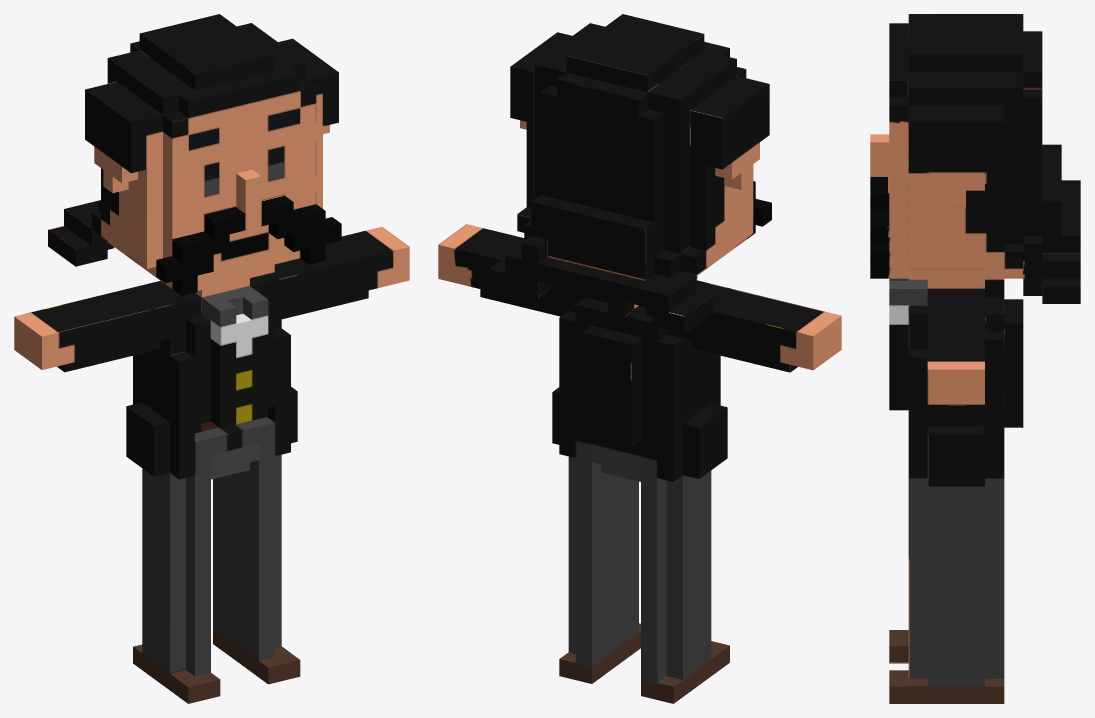
File: okubotoshimichi.glb
3 views of the same model, side by side, from view 1: azimuth 30°, elevation 25°; view 2: azimuth 150°, elevation 25°; view 3: azimuth 270°, elevation 25° (orthographic). The views are drawn at different scales.
Parts seen in each view (by area): view 1: okubotoshimichi; view 2: okubotoshimichi; view 3: okubotoshimichi.
Boxes of the visible parts, x1,y1,x2,y2 form: okubotoshimichi: (14, 14, 409, 703); okubotoshimichi: (438, 14, 841, 703); okubotoshimichi: (870, 14, 1080, 703).
Bounding box in the file's own units: 0.46 × 0.74 × 0.22.
1 material, 1 textured.
